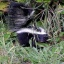skunk: (8, 3, 50, 46)
